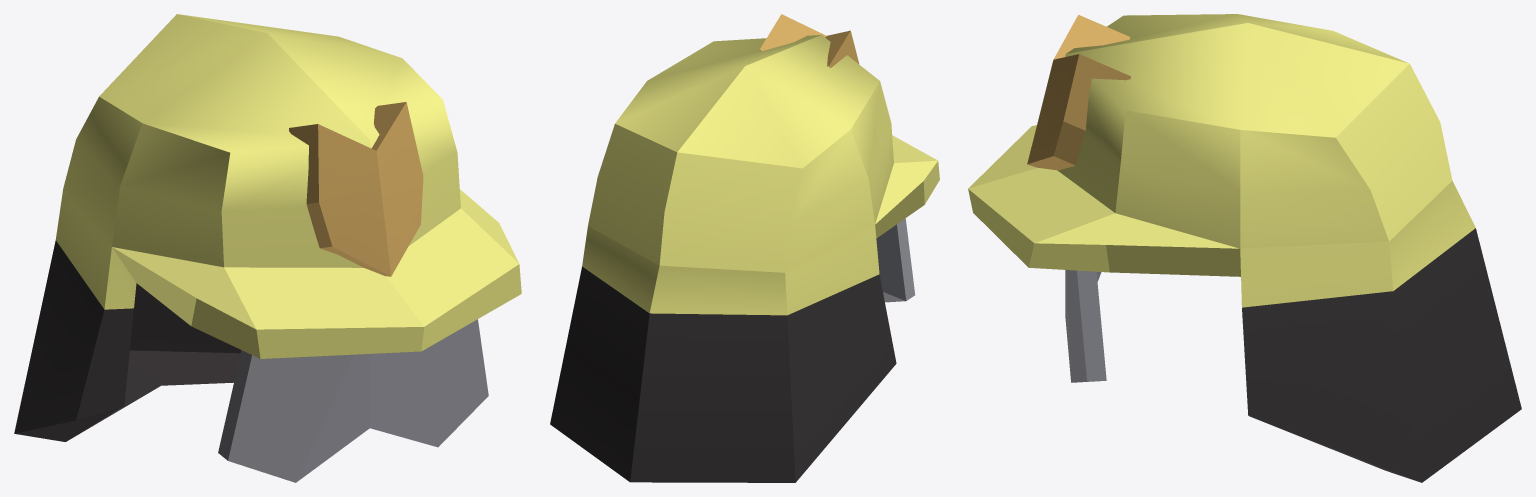
File: g_o_firefighter_helmetEU.fbx
3 views of the same model, side by side, from view 1: azimuth 30°, elevation 25°; view 2: azimuth 150°, elevation 25°; view 3: azimuth 270°, elevation 25° (orthographic). The views are drawn at different scales.
Parts seen in each view (by area): view 1: g_o_firefighter_helmetEU; view 2: g_o_firefighter_helmetEU; view 3: g_o_firefighter_helmetEU.
Part boxes in pixels (left/top/right/bottom): g_o_firefighter_helmetEU: left=14, top=14, right=521, bottom=482; g_o_firefighter_helmetEU: left=550, top=14, right=939, bottom=482; g_o_firefighter_helmetEU: left=968, top=14, right=1521, bottom=482.
Size of the model in its own units: 31.38 by 33.47 by 42.84.
